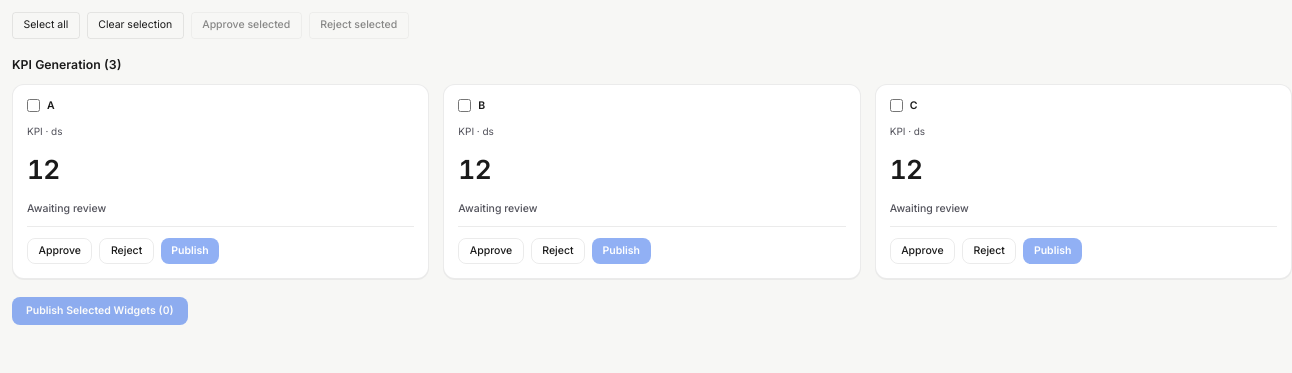
Test: runs mixed approve/reject requests together and keeps unrelated cards usable
Click the 1st button "Approve A" at (60,251), box [27, 238, 92, 264]
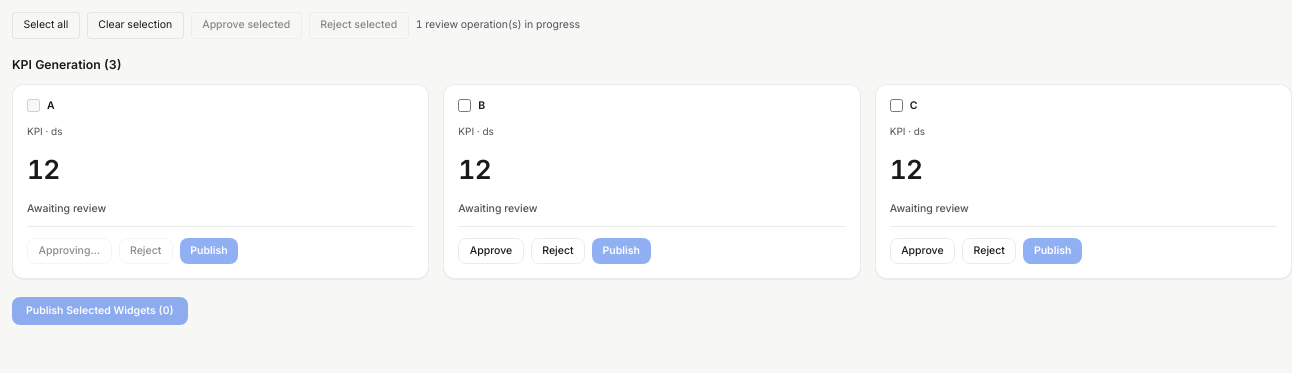
Click the button with aria-label "Reject B" at (558,251), box [531, 238, 585, 264]
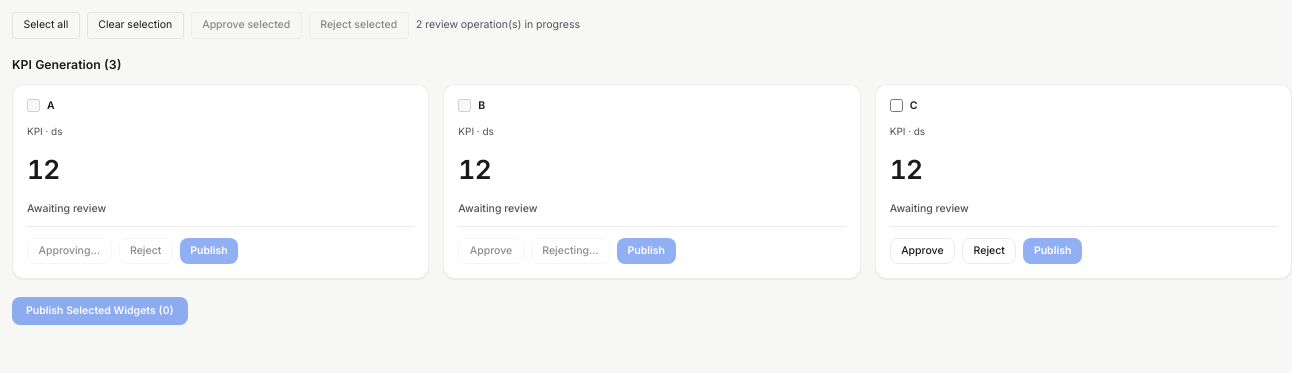
Click the button with aria-label "Approve C" at (922,251), box [890, 238, 955, 264]
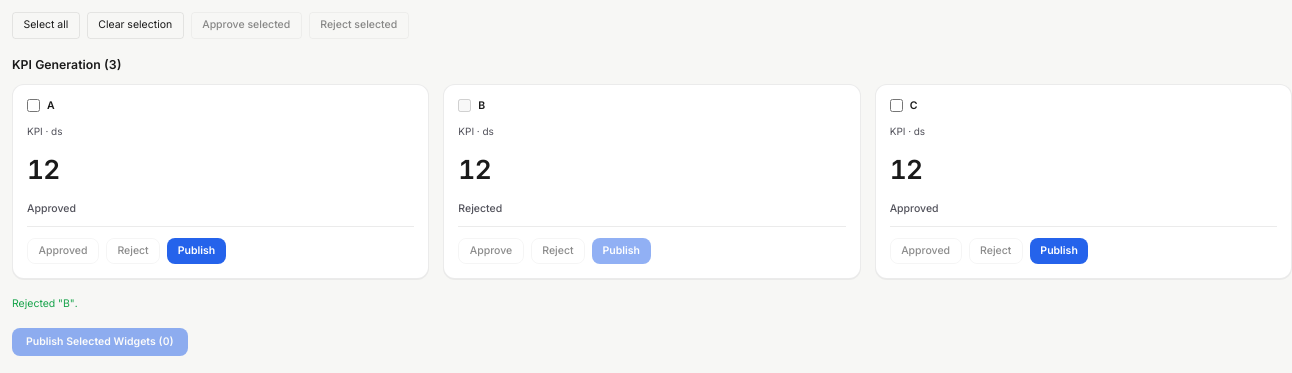
Result: the button named "Approve A" is disabled at [27, 238, 99, 264]
Result: the button with aria-label "Publish C" is enabled at [1030, 238, 1088, 264]
Result: the button with aria-label "Publish A" is enabled at [167, 238, 226, 264]
